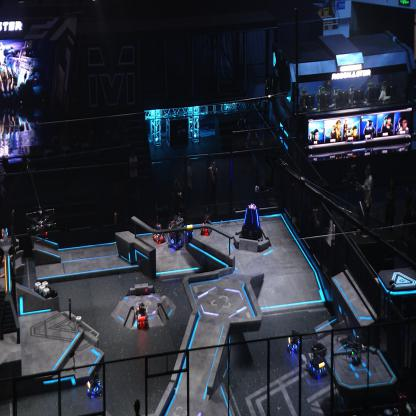car: (306, 342, 327, 378), (167, 215, 185, 250), (86, 369, 104, 398), (286, 328, 302, 354), (135, 302, 149, 329), (152, 221, 166, 244), (200, 213, 212, 235)
